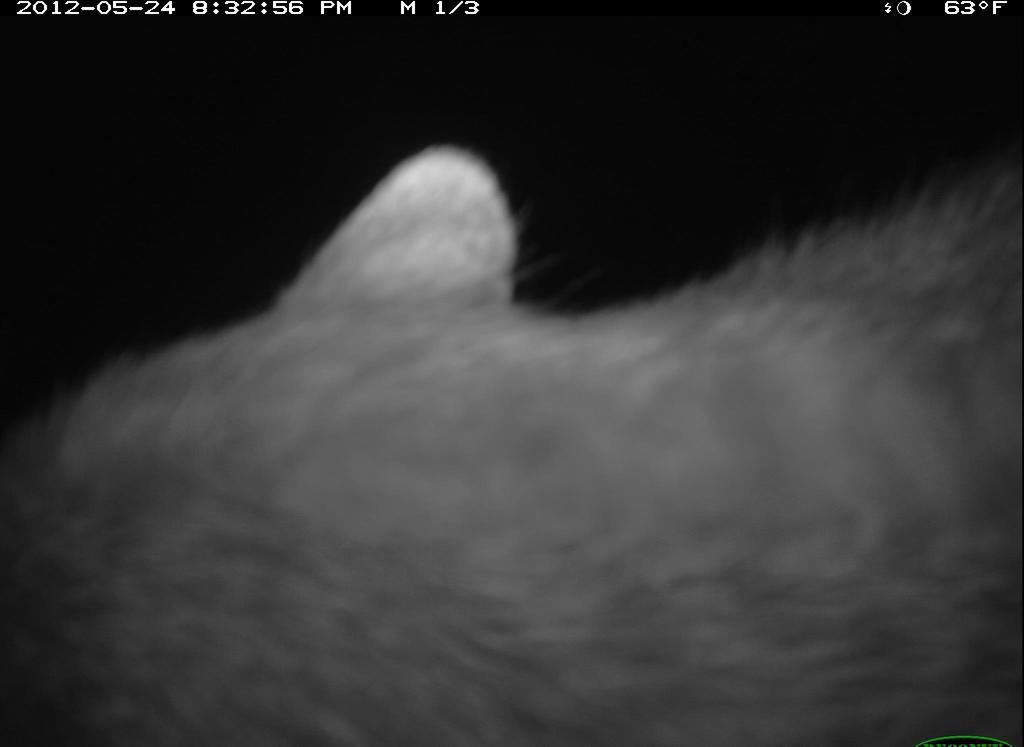raccoon: (8, 126, 1021, 744)
